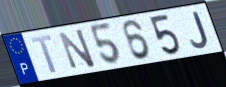5: (87, 21, 123, 68), (148, 12, 183, 57)
6: (121, 17, 151, 61)
J: (189, 10, 210, 49)
N: (56, 27, 98, 71)
T: (29, 33, 59, 75)
